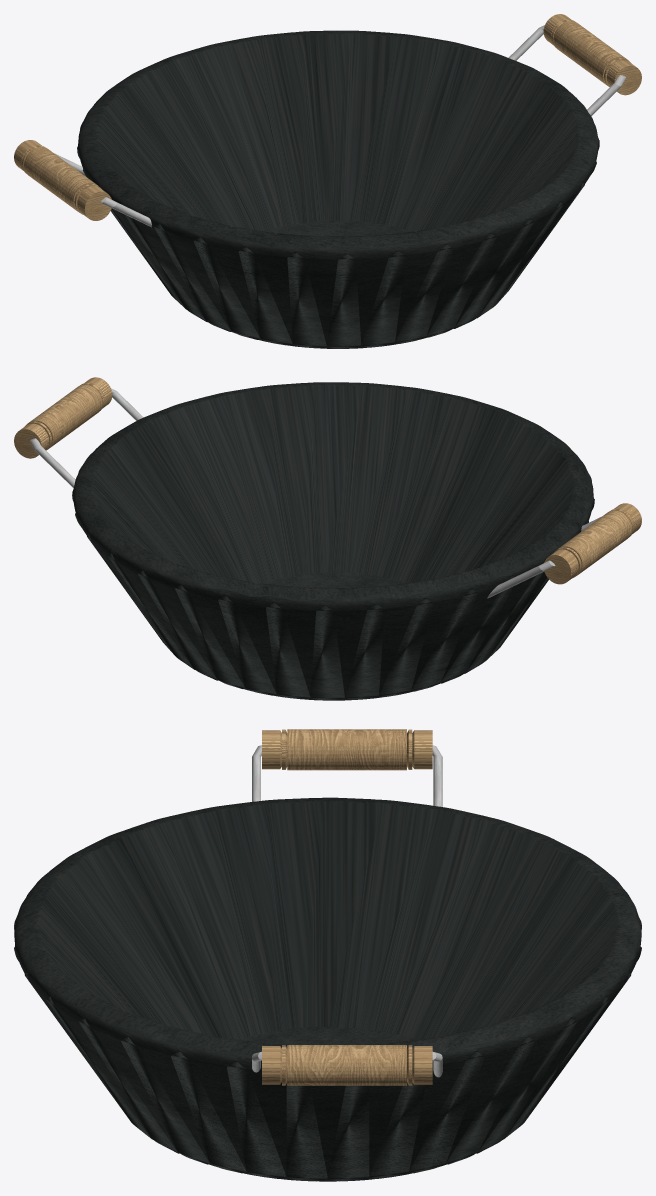
File: tyukanabe.fbx
3 renders of one model, top to bottom at view 1: azimuth 30°, elevation 25°; view 2: azimuth 150°, elevation 25°; view 3: azimuth 270°, elevation 25°, orthographic. The views are drawn at different scales.
Parts seen in each view (by area): view 1: Cylinder, Circle.004; view 2: Cylinder, Circle.004; view 3: Cylinder, Circle.004.
Boxes of the visible parts, box(x1,y1,x2,y2) form: Cylinder: box(77, 30, 599, 348); Circle.004: box(14, 14, 641, 227); Cylinder: box(72, 382, 594, 700); Circle.004: box(14, 377, 641, 598); Cylinder: box(14, 797, 641, 1181); Circle.004: box(252, 729, 442, 1085).
Bounding box in the file's own units: 317 × 97.67 × 256.
3 materials, 3 textured.
